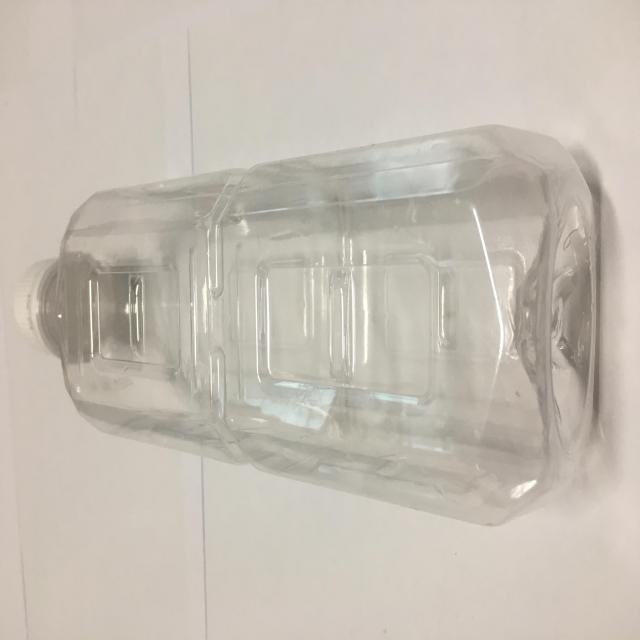bottle: (15, 118, 613, 519)
